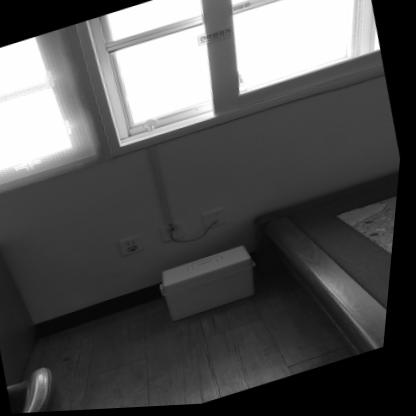DDL: (158, 244, 271, 326)
